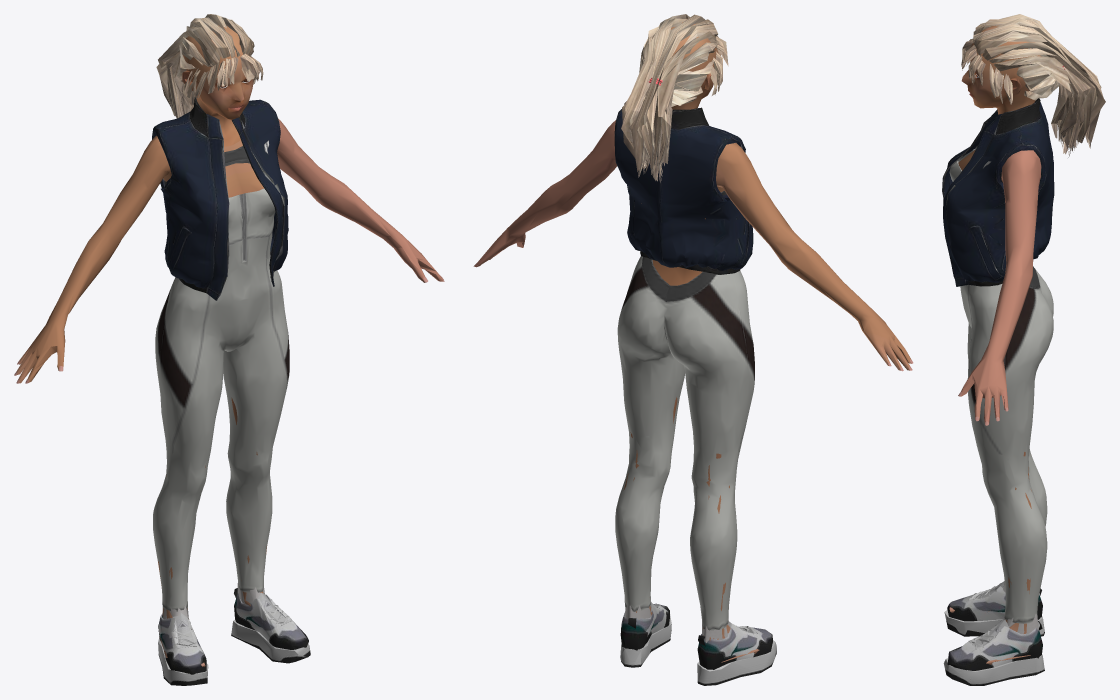
File: female_emma.glb
3 views of the same model, side by side, from view 1: azimuth 30°, elevation 25°; view 2: azimuth 150°, elevation 25°; view 3: azimuth 270°, elevation 25° (orthographic). The views are drawn at different scales.
Visible parts, largest first — view 1: female_emma; view 2: female_emma; view 3: female_emma.
Boxes of the visible parts, x1=… form: female_emma: x1=14, y1=14, x2=444, y2=685; female_emma: x1=473, y1=14, x2=913, y2=685; female_emma: x1=942, y1=14, x2=1105, y2=685.
Bounding box in the file's own units: 1.18 × 1.68 × 0.3922.
Materials: 6 (6 with a texture image).
